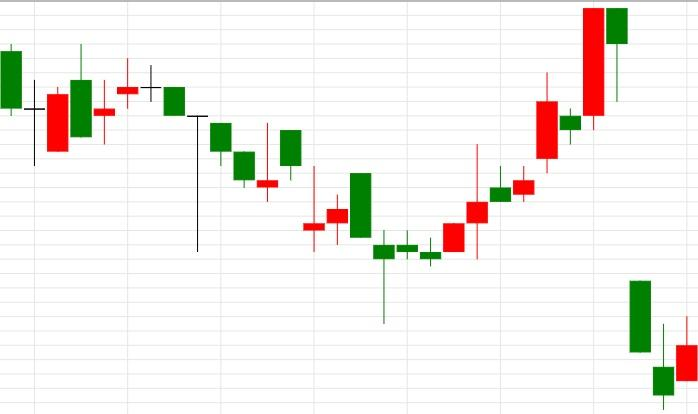hanging_man_fall: (443, 9, 628, 260)
